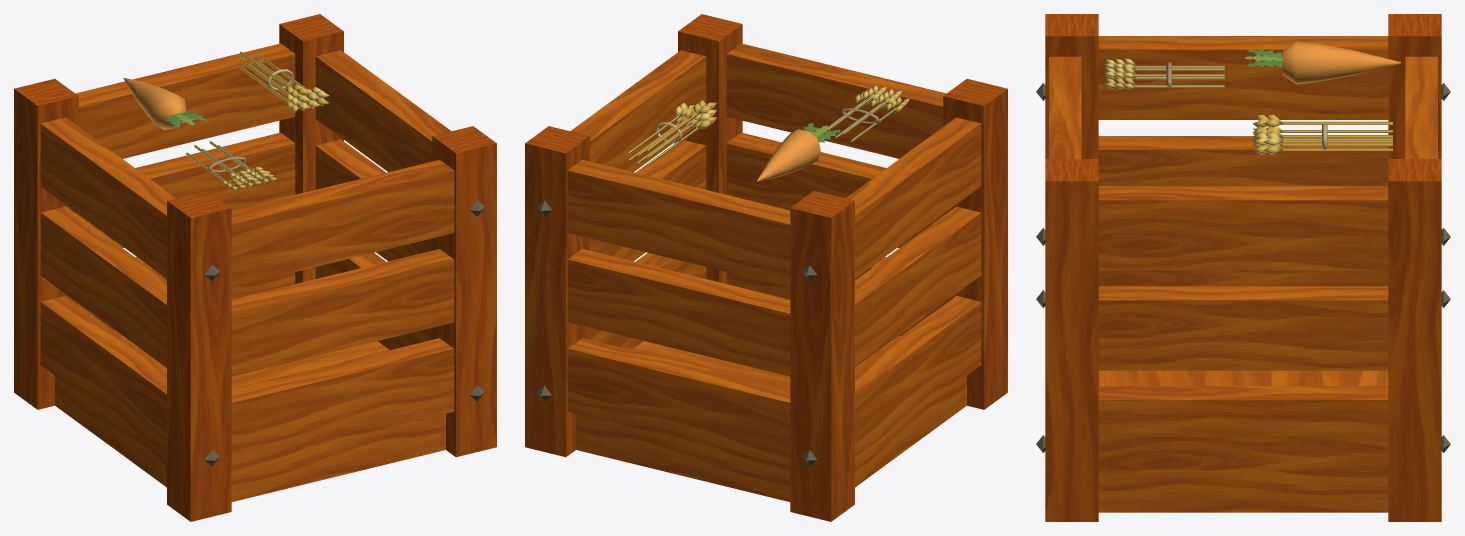
File: farm-collection-box-11.gltf
The picture shows the model from 3 angles, left to right: view 1: azimuth 30°, elevation 25°; view 2: azimuth 150°, elevation 25°; view 3: azimuth 270°, elevation 25°; orthographic projection. The views are drawn at different scales.
Parts seen in each view (by area): view 1: farm-collection-box-11; view 2: farm-collection-box-11; view 3: farm-collection-box-11.
Boxes of the visible parts, x1,y1,x2,y2 form: farm-collection-box-11: (14, 14, 496, 521); farm-collection-box-11: (525, 14, 1007, 521); farm-collection-box-11: (1036, 14, 1450, 521).
Size of the model in its own units: 0.8002 by 0.8041 by 0.8382.
2 materials, 1 textured.
